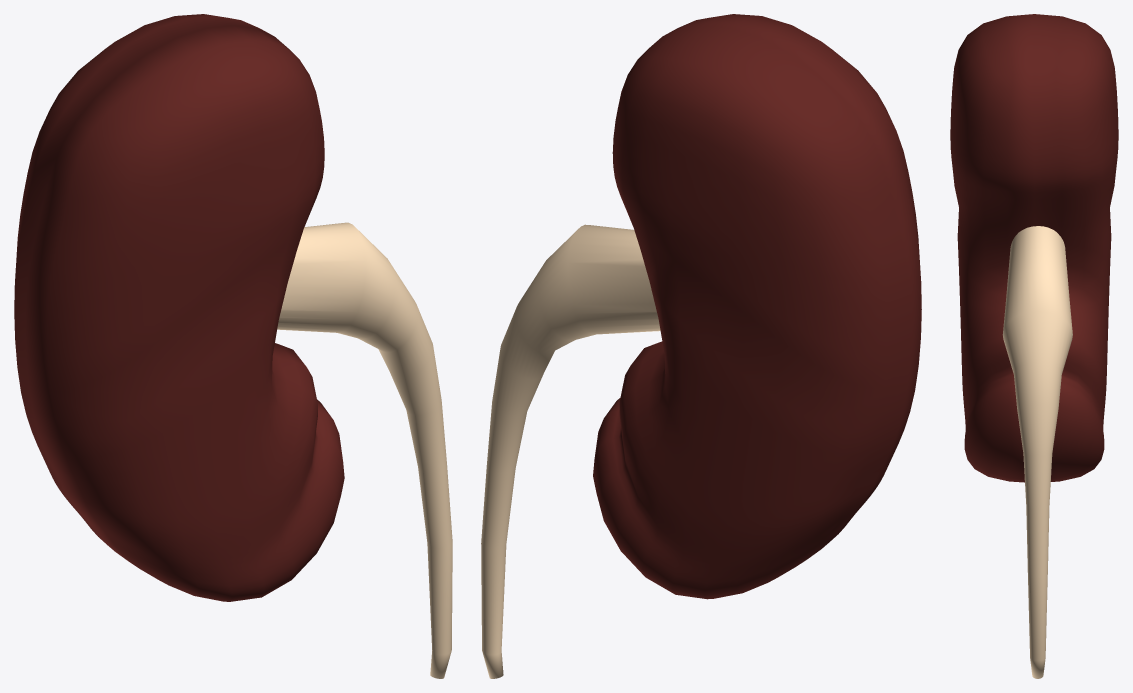
File: KidneyFull.fbx
The picture shows the model from 3 angles, left to right: view 1: azimuth 30°, elevation 25°; view 2: azimuth 150°, elevation 25°; view 3: azimuth 270°, elevation 25°; orthographic projection. The views are drawn at different scales.
Visible parts, largest first — view 1: Cortex, Renal Pelvis; view 2: Cortex, Renal Pelvis; view 3: Cortex, Renal Pelvis.
Boxes of the visible parts, <box> form: Cortex: <box>14,14,344,601</box>; Renal Pelvis: <box>277,222,452,678</box>; Cortex: <box>593,14,921,599</box>; Renal Pelvis: <box>481,224,660,678</box>; Cortex: <box>950,14,1118,482</box>; Renal Pelvis: <box>1002,226,1072,678</box>.
Bounding box in the file's own units: 268 × 424 × 116.
